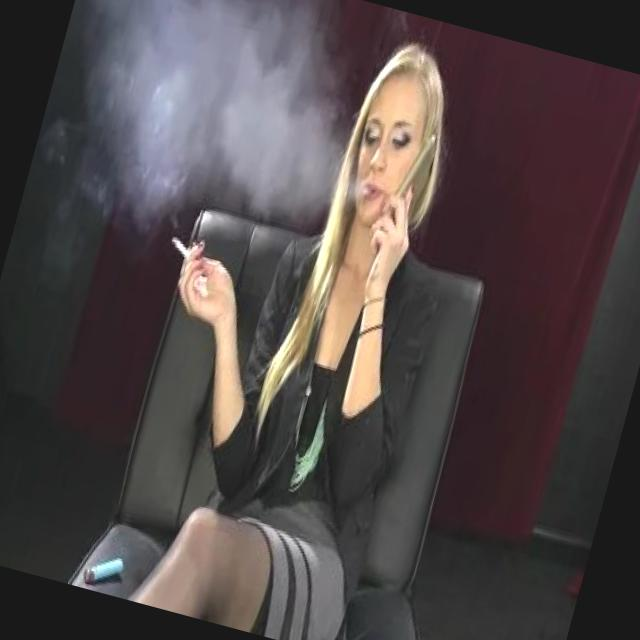smoke: (162, 230, 198, 268)
